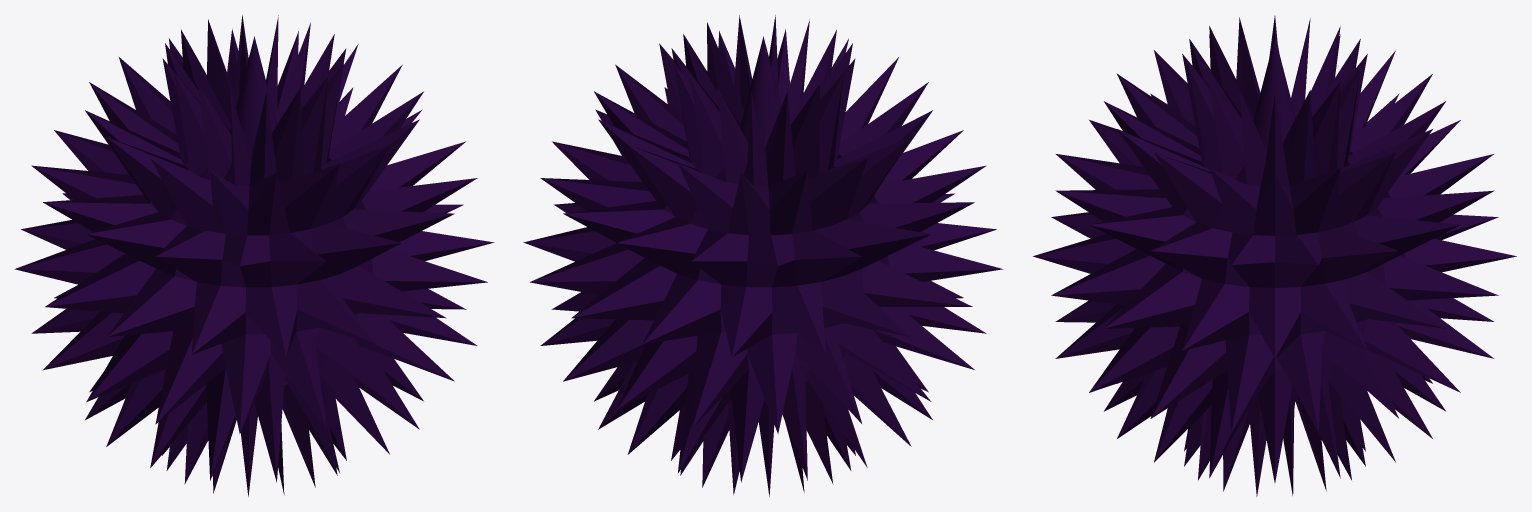
The model's file is SeaUrchin.fbx.
3 renders of one model, left to right at view 1: azimuth 30°, elevation 25°; view 2: azimuth 150°, elevation 25°; view 3: azimuth 270°, elevation 25°, orthographic.
Visible parts, largest first — view 1: 球; view 2: 球; view 3: 球.
Part boxes in pixels (left/top/right/bottom): 球: left=14, top=15, right=494, bottom=496; 球: left=523, top=15, right=1003, bottom=497; 球: left=1033, top=15, right=1516, bottom=496.
Bounding box in the file's own units: 363 × 350 × 363.
